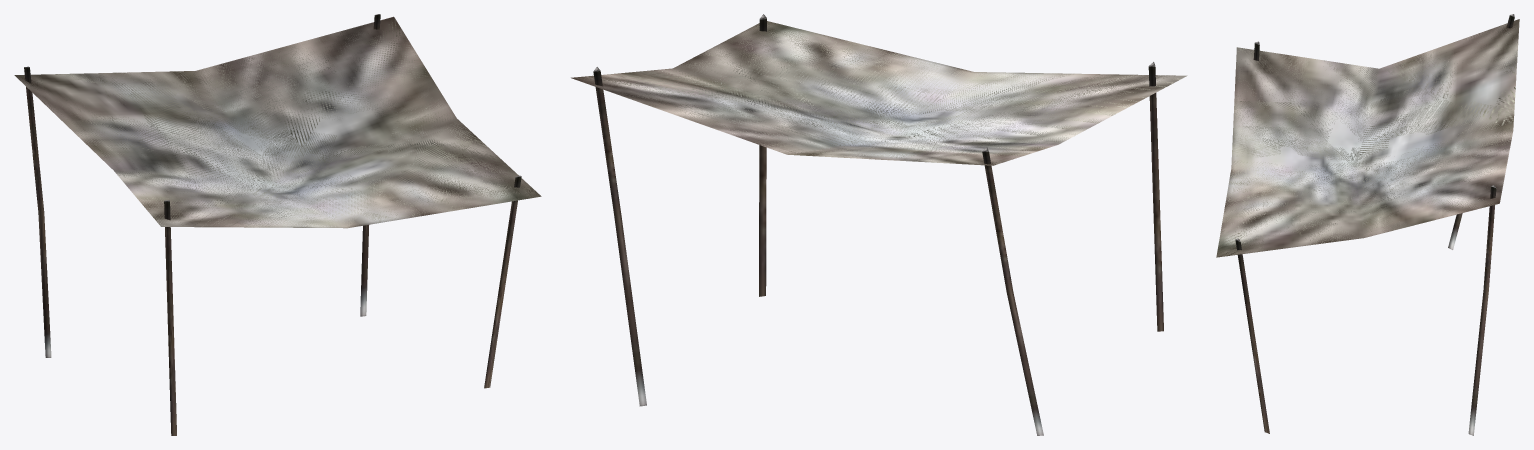
The model's file is peng03.obj.
3 views of the same model, side by side, from view 1: azimuth 30°, elevation 25°; view 2: azimuth 150°, elevation 25°; view 3: azimuth 270°, elevation 25° (orthographic). The views are drawn at different scales.
Parts seen in each view (by area): view 1: peng03; view 2: peng03; view 3: peng03.
Part boxes in pixels (x1,y1,x2,y2): peng03: (14,14,541,435); peng03: (571,14,1187,435); peng03: (1216,14,1519,435).
Bounding box in the file's own units: 122 × 95.88 × 93.46.
